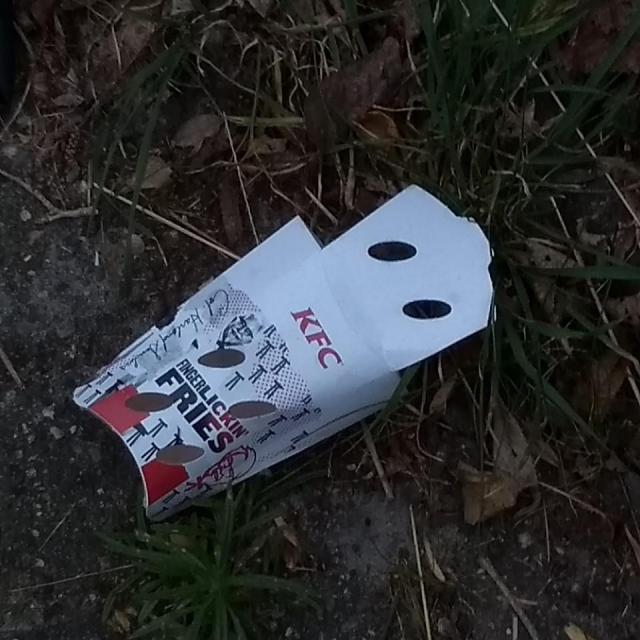Paper: (70, 178, 498, 526)
